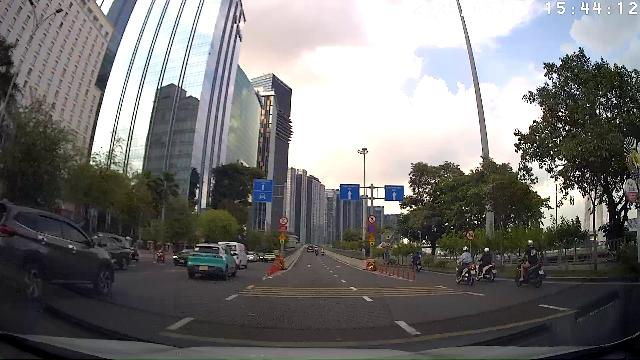103a-cam-oto: (466, 230, 475, 240)
